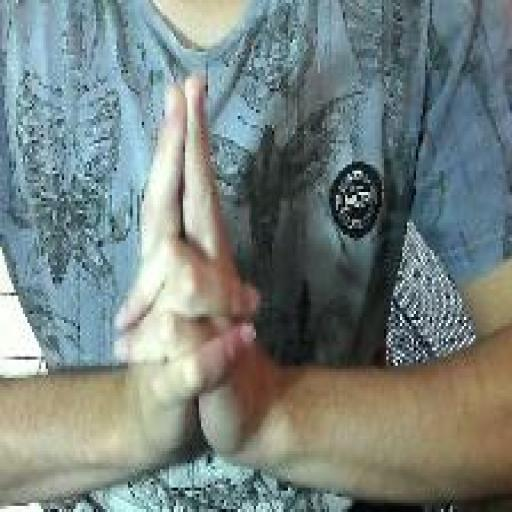Tora -tiger-: (108, 65, 268, 471)
